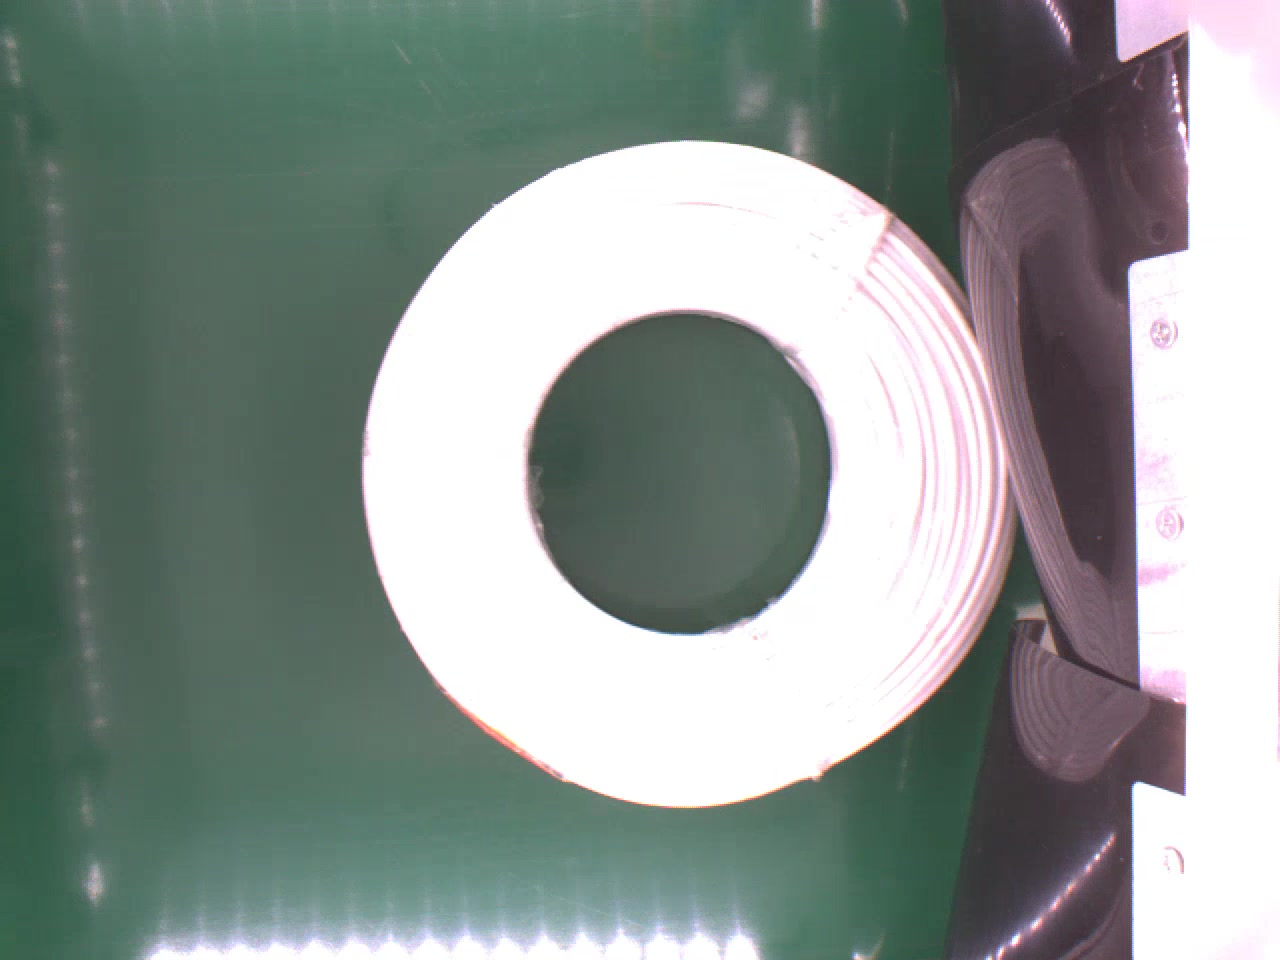white: (359, 137, 1014, 817)
